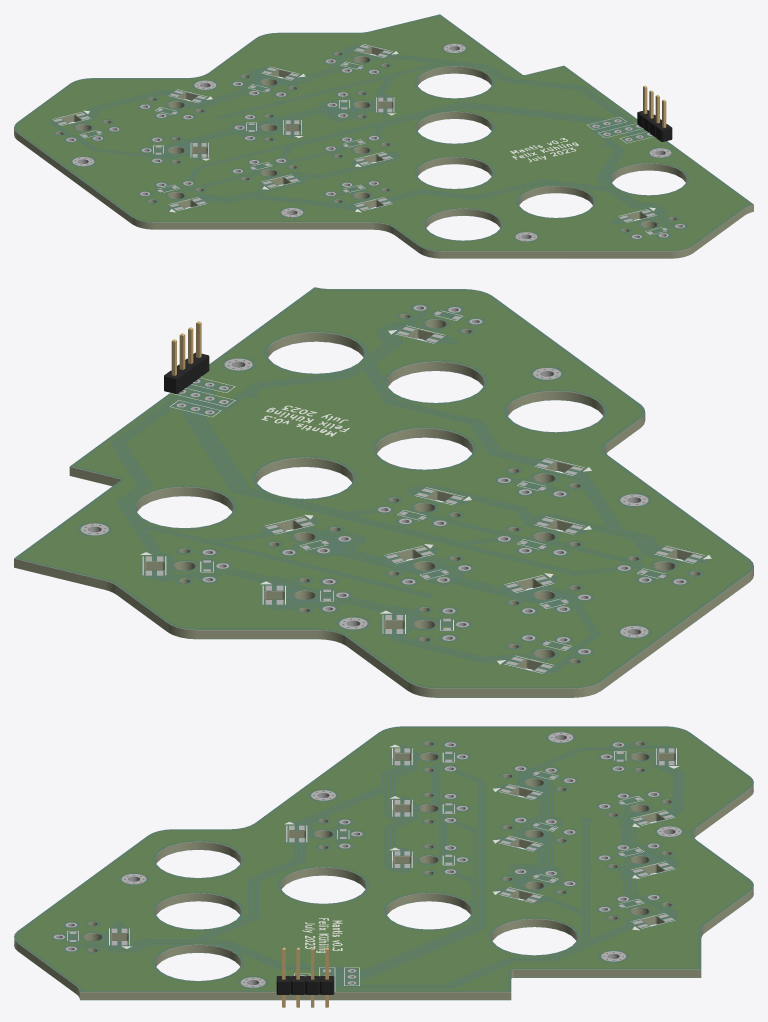
The model's file is board.glb.
3 renders of one model, top to bottom at view 1: azimuth 30°, elevation 25°; view 2: azimuth 150°, elevation 25°; view 3: azimuth 270°, elevation 25°, orthographic. The views are drawn at different scales.
Visible parts, largest first — view 1: board_soldermask (×2), board_copper, board_PCB, board_pad, board_silkscreen, PinHeader_1x04_P254mm_Vertical; view 2: board_soldermask (×2), board_copper, board_PCB, board_pad, board_silkscreen, PinHeader_1x04_P254mm_Vertical; view 3: board_soldermask (×2), board_copper, board_PCB, board_pad, board_silkscreen, PinHeader_1x04_P254mm_Vertical.
Boxes of the visible parts, bbox=[...] form: board_soldermask (×2): bbox=[14, 14, 753, 258]; board_copper: bbox=[17, 16, 748, 249]; board_PCB: bbox=[14, 15, 753, 258]; board_pad: bbox=[52, 43, 684, 241]; board_silkscreen: bbox=[52, 44, 666, 234]; PinHeader_1x04_P254mm_Vertical: bbox=[637, 85, 672, 141]; board_soldermask (×2): bbox=[14, 287, 753, 697]; board_copper: bbox=[19, 289, 749, 686]; board_PCB: bbox=[14, 288, 753, 697]; board_pad: bbox=[80, 305, 703, 672]; board_silkscreen: bbox=[140, 310, 711, 673]; PinHeader_1x04_P254mm_Vertical: bbox=[164, 321, 209, 393]; board_soldermask (×2): bbox=[14, 726, 753, 1000]; board_copper: bbox=[17, 728, 750, 990]; board_PCB: bbox=[14, 727, 753, 999]; board_pad: bbox=[53, 732, 681, 987]; board_silkscreen: bbox=[67, 744, 678, 991]; PinHeader_1x04_P254mm_Vertical: bbox=[276, 947, 334, 1007].
Bounding box in the file's own units: 0.1123 × 0.0115 × 0.1306.
